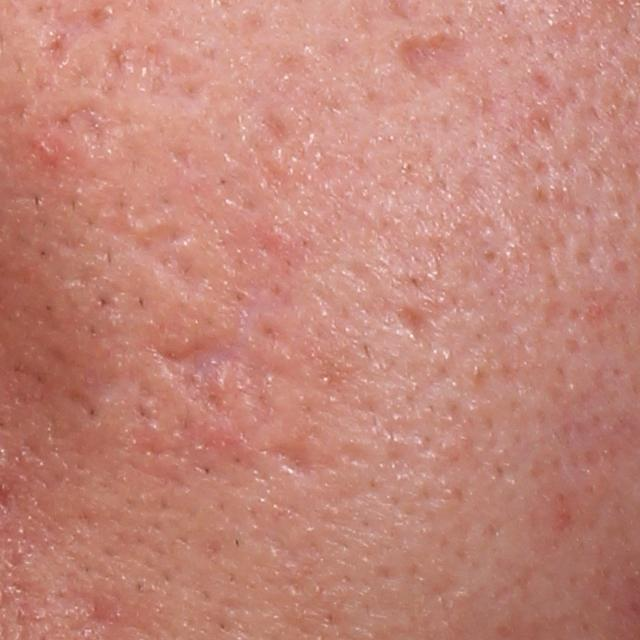atrophic_scar: (149, 221, 298, 417), (396, 26, 470, 88), (389, 302, 443, 352), (262, 441, 321, 484)
papule: (30, 129, 69, 169)
